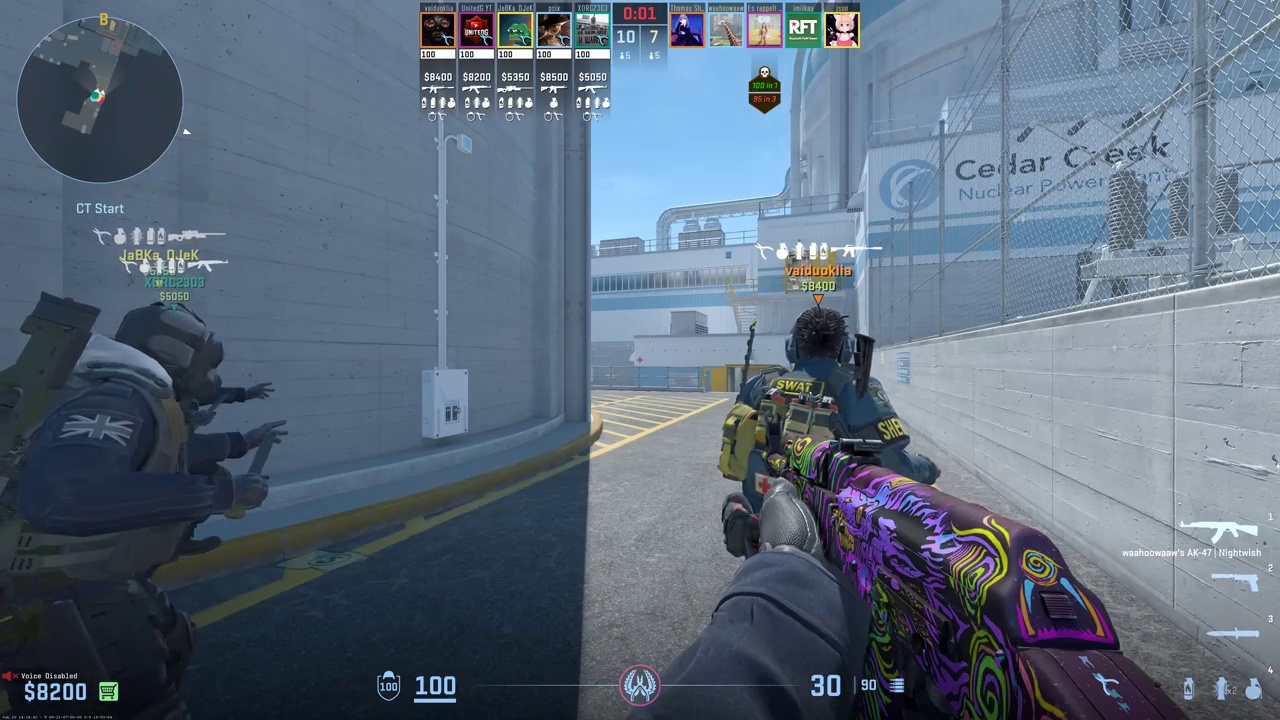CT: (7, 304, 238, 715), (730, 307, 907, 564)
